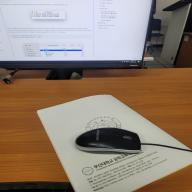Mouse: (71, 124, 148, 160)
